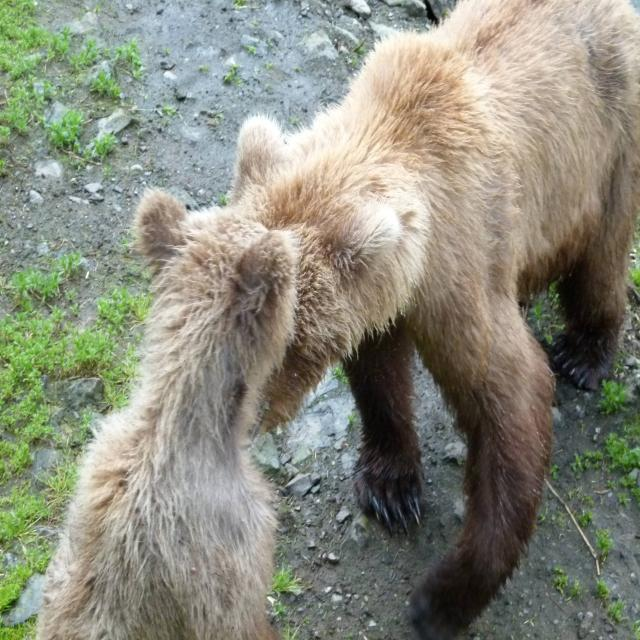bear face: (236, 0, 640, 640), (39, 187, 297, 640)
